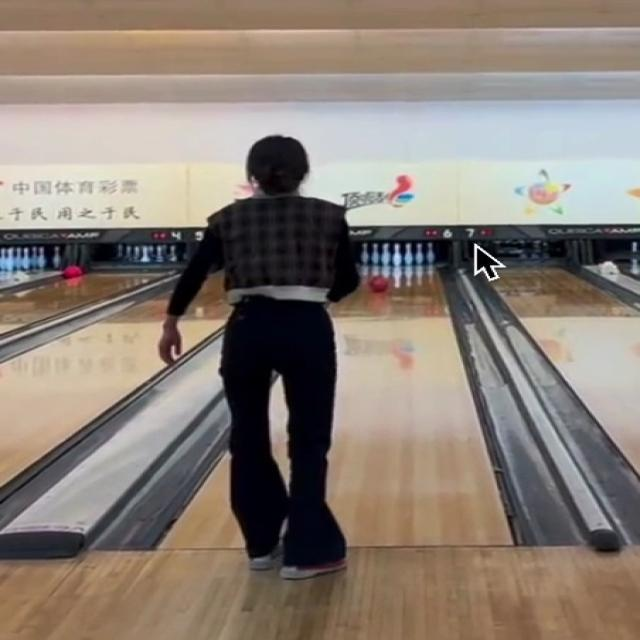alley: (328, 266, 508, 544), (163, 468, 238, 548)
balls: (368, 275, 388, 292)
bottle: (355, 241, 446, 273)
